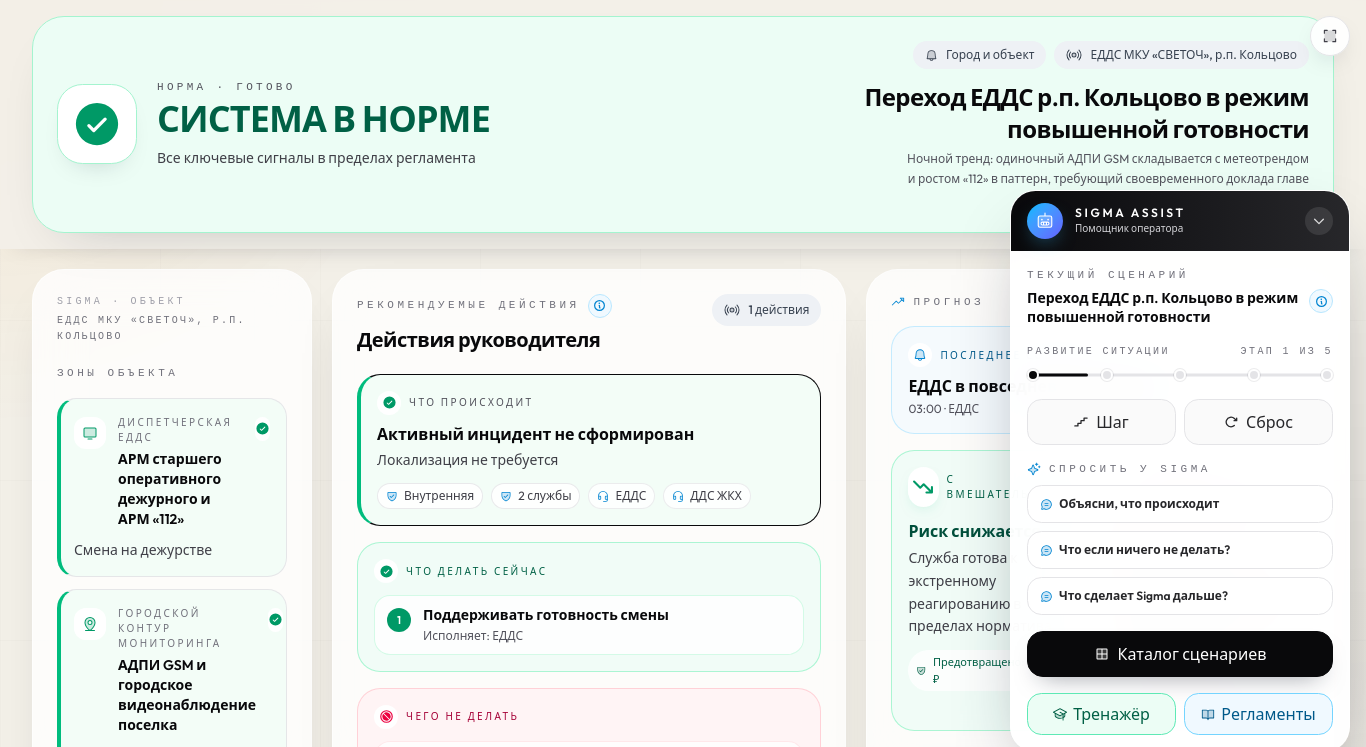
Test: SigmaAssist — entry points to trainer and regulations › shows a Trainer button that navigates to /trainer/:id when the scenario has interactiveMeta
Click the button with test id "open-trainer".
click(1102, 714)  # box [1027, 693, 1176, 735]
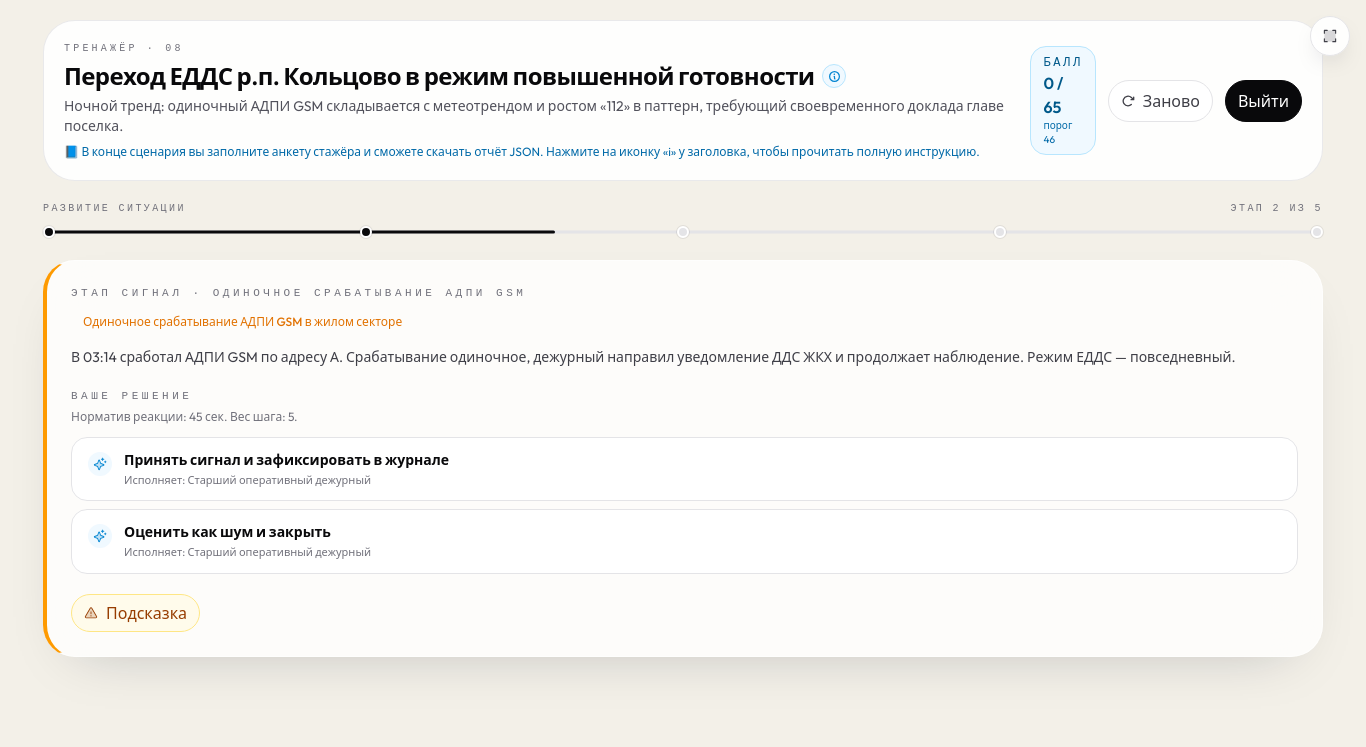
Result: the element with test id "trainer-shell" is shown
